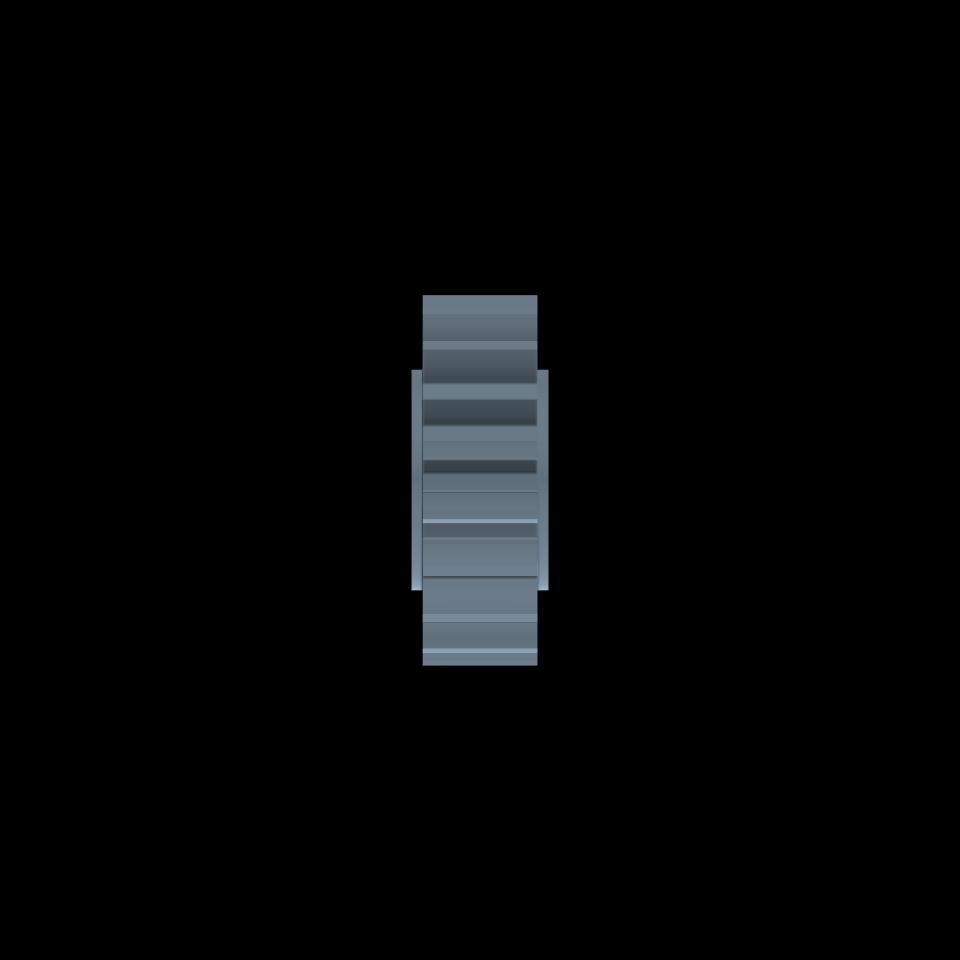Straight: (421, 294, 538, 666)
